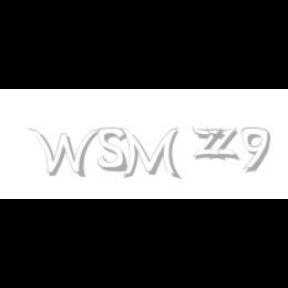9: (242, 128, 270, 172)
M: (120, 128, 180, 180)
S: (97, 128, 128, 172)
W: (27, 128, 99, 178)
z: (191, 128, 227, 160), (206, 128, 242, 160)
